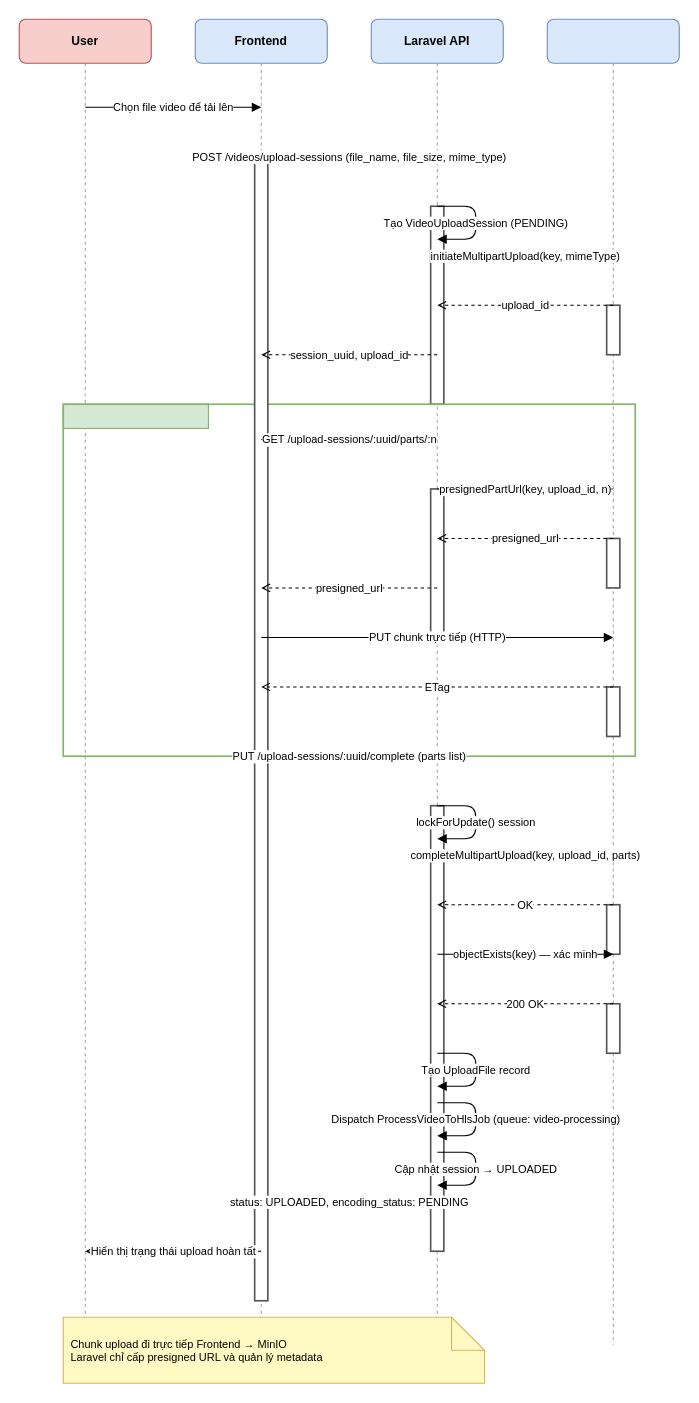
Image size: 699x1403. Some labels were removed from this diagram. Each missing label, with the centre of its shape:
loop [Mỗi chunk]: (135,415)
MinIO S3: (612,40)
